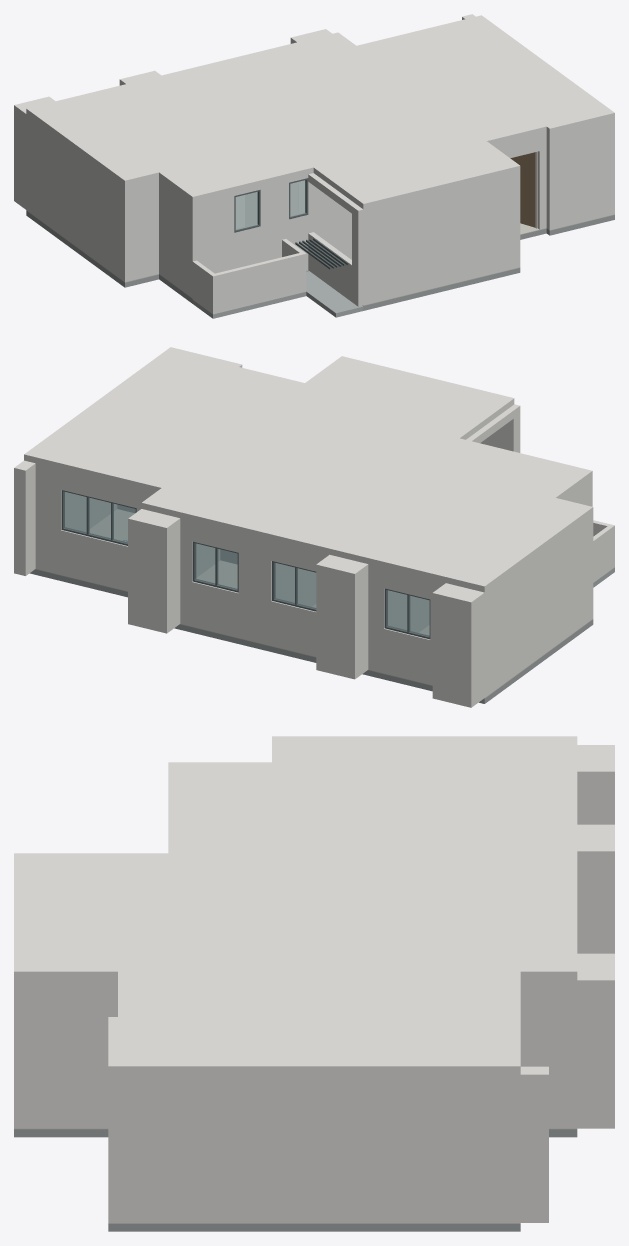
The model's file is Apartment.glb.
3 renders of one model, top to bottom at view 1: azimuth 30°, elevation 25°; view 2: azimuth 150°, elevation 25°; view 3: azimuth 270°, elevation 25°, orthographic. The views are drawn at different scales.
Visible parts, largest first — view 1: Ceiling | underside 2600 mm, Kitchen and yard | south structural wall, Main bedroom | outer side, Shelter | south structural wall, Air-con ledge | outer parapet, Main bedroom | south structural return, Bathrooms | east structural wall, Bath 1 | south window wall | solid 10250, Floor slab | finished floor datum Z=0, Bath 2 | south window wall | solid 6850, Bath 1 | south window wall | solid 8780, Facade pier | main bedroom head (+15 smaller); view 2: Ceiling | underside 2600 mm, Main bedroom | outer side, Facade pier | main bedroom head, Facade pier | bedroom 2 head, Facade pier | bedroom 3 head, Living | outer side and fin, W01 | Living | sill wall, Living window wall | solid 300, Floor slab | finished floor datum Z=0, W02 | Bedroom 3 | sill wall, W04 | Main bedroom | sill wall, W03 | Bedroom 2 | sill wall (+27 smaller); view 3: Ceiling | underside 2600 mm, Living | outer side and fin, Shelter | west structural wall, Kitchen | west structural wall, Facade pier | living-bedroom step, Facade pier | bedroom 2 head, Floor slab | finished floor datum Z=0, Facade pier | main bedroom head, Facade pier | bedroom 3 head.
Part boxes in pixels (x1,y1,x2,y2): Ceiling | underside 2600 mm: [26, 15, 614, 209]; Kitchen and yard | south structural wall: [352, 174, 509, 306]; Main bedroom | outer side: [29, 116, 118, 277]; Shelter | south structural wall: [546, 121, 604, 229]; Air-con ledge | outer parapet: [210, 252, 306, 314]; Main bedroom | south structural return: [118, 178, 158, 281]; Bathrooms | east structural wall: [159, 178, 203, 297]; Bath 1 | south window wall | solid 10250: [203, 192, 234, 273]; Floor slab | finished floor datum Z=0: [26, 211, 614, 310]; Bath 2 | south window wall | solid 6850: [308, 182, 351, 259]; Bath 1 | south window wall | solid 8780: [260, 180, 285, 262]; Facade pier | main bedroom head: [14, 96, 55, 211]; Ceiling | underside 2600 mm: [24, 347, 593, 592]; Main bedroom | outer side: [488, 518, 586, 695]; Facade pier | main bedroom head: [432, 583, 487, 707]; Facade pier | bedroom 2 head: [316, 554, 368, 679]; Facade pier | bedroom 3 head: [139, 511, 180, 633]; Living | outer side and fin: [14, 460, 117, 575]; W01 | Living | sill wall: [61, 530, 127, 591]; Living window wall | solid 300: [35, 463, 61, 574]; Floor slab | finished floor datum Z=0: [29, 569, 593, 703]; W02 | Bedroom 3 | sill wall: [192, 581, 238, 637]; W04 | Main bedroom | sill wall: [384, 628, 430, 684]; W03 | Bedroom 2 | sill wall: [271, 601, 316, 656]; Ceiling | underside 2600 mm: [14, 736, 577, 1074]; Living | outer side and fin: [291, 1066, 548, 1222]; Shelter | west structural wall: [108, 1074, 290, 1222]; Kitchen | west structural wall: [14, 980, 117, 1128]; Facade pier | living-bedroom step: [520, 972, 614, 1128]; Facade pier | bedroom 2 head: [577, 824, 614, 953]; Floor slab | finished floor datum Z=0: [14, 1129, 577, 1231]; Facade pier | main bedroom head: [577, 745, 614, 824]; Facade pier | bedroom 3 head: [577, 953, 614, 972].
Bounding box in the file's own units: 12.4 × 2.9 × 9.55.
